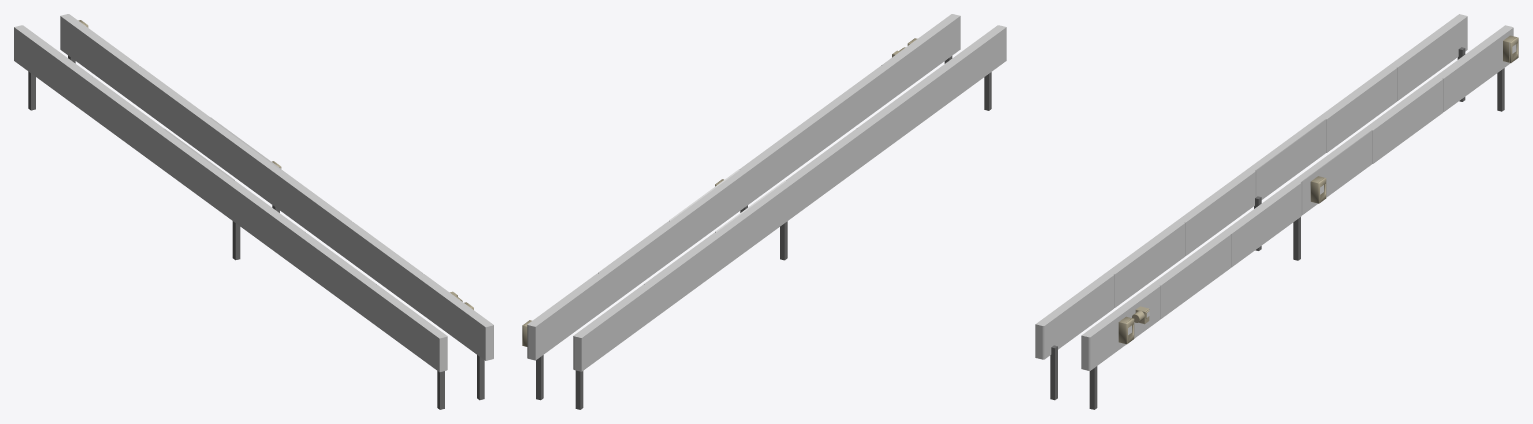
The model's file is conveyor_nobase.dae.
3 renders of one model, left to right at view 1: azimuth 30°, elevation 25°; view 2: azimuth 150°, elevation 25°; view 3: azimuth 330°, elevation 25°, orthographic.
Parts seen in each view (by area): view 1: conveyor_guards, conveyor_legs; view 2: conveyor_guards, conveyor_legs; view 3: conveyor_guards, conveyor_legs, Cube.033.
Boxes of the visible parts, box(x1,y1,x2,y2) form: conveyor_guards: box(14, 14, 493, 372); conveyor_legs: box(28, 55, 484, 409); conveyor_guards: box(527, 14, 1006, 371); conveyor_legs: box(536, 56, 991, 409); conveyor_guards: box(1035, 14, 1513, 370); conveyor_legs: box(1050, 47, 1504, 409); Cube.033: box(1118, 35, 1518, 344).
Bounding box in the file's own units: 0.7952 × 9 × 0.9222.
